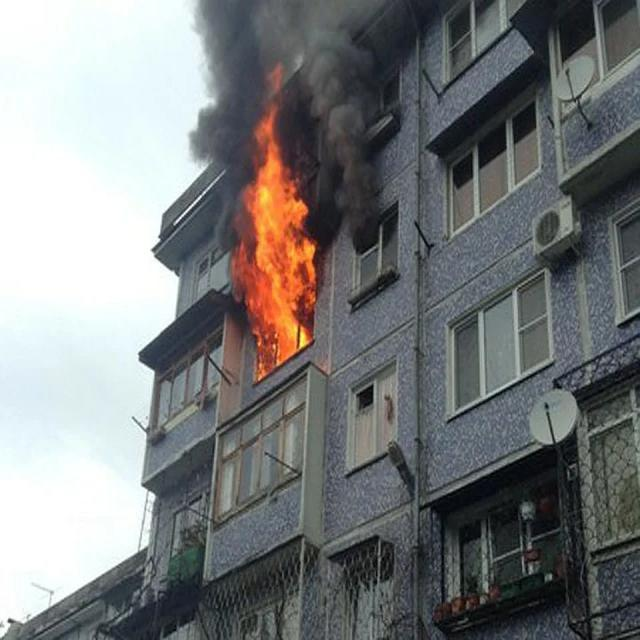Fire: (230, 108, 316, 382)
Smoke: (187, 0, 396, 256)
